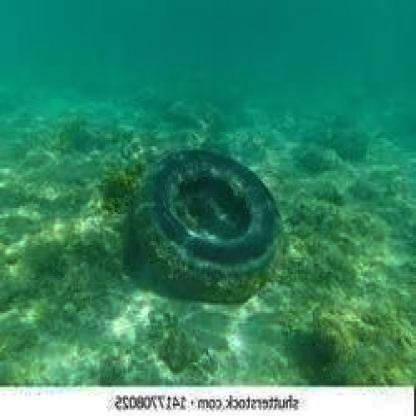tire: (130, 140, 301, 309)
